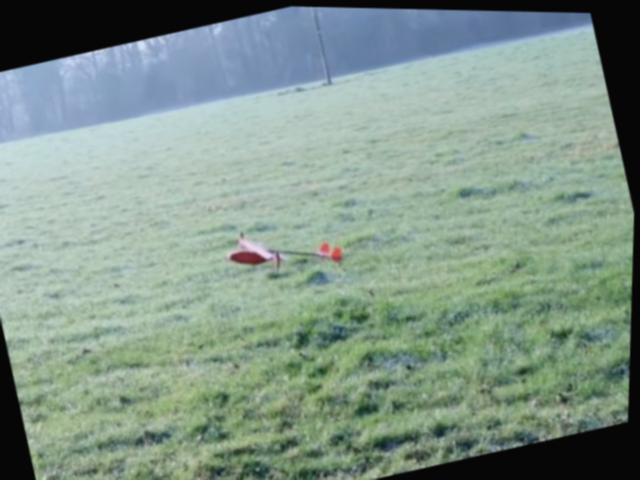uav: (215, 196, 357, 302)
